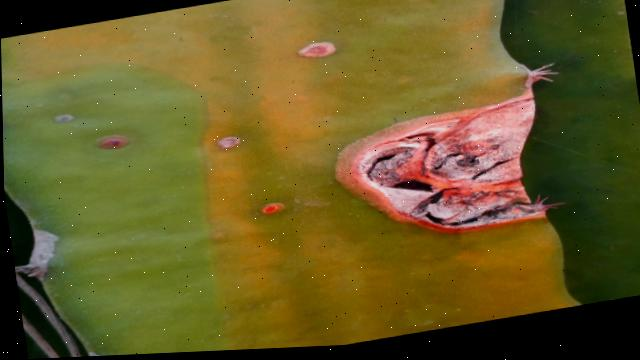stemcanker: (293, 36, 341, 64), (209, 131, 250, 156), (92, 131, 134, 155), (253, 199, 292, 221)
